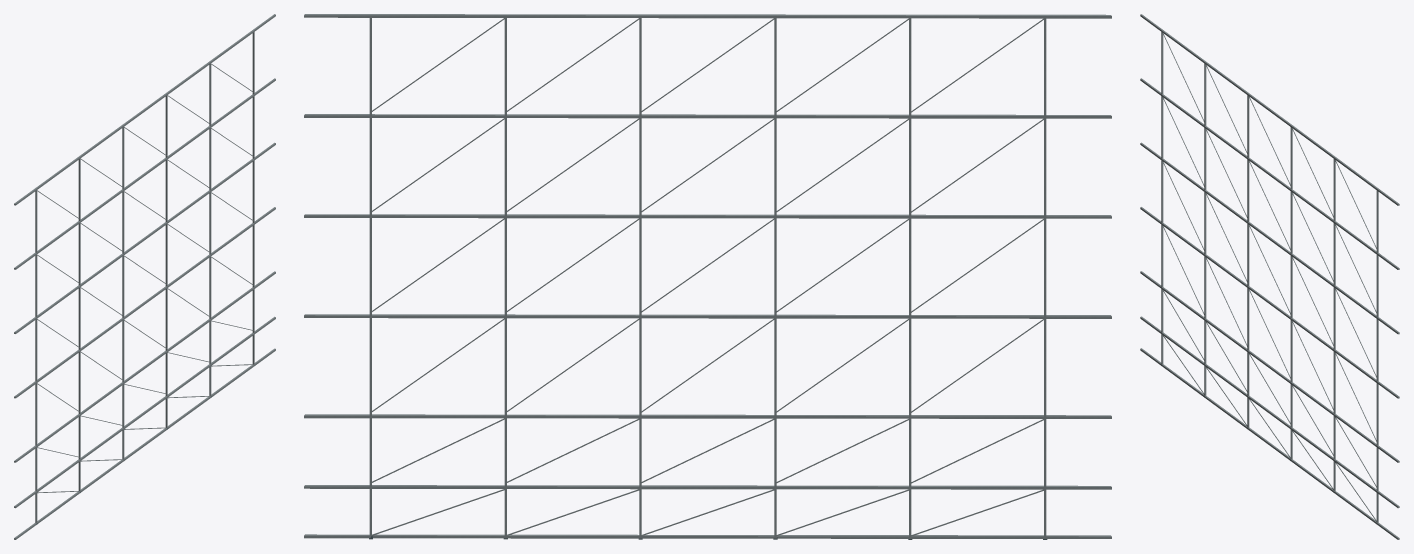
The model's file is G7_MiddleExterior_E00_r001.glb.
3 views of the same model, side by side, from view 1: azimuth 30°, elevation 25°; view 2: azimuth 150°, elevation 25°; view 3: azimuth 270°, elevation 25° (orthographic). The views are drawn at different scales.
Parts seen in each view (by area): view 1: G7_MiddleExterior_E00_frame; view 2: G7_MiddleExterior_E00_frame; view 3: G7_MiddleExterior_E00_frame.
Part boxes in pixels (left/top/right/bottom): G7_MiddleExterior_E00_frame: left=14, top=14, right=275, bottom=539; G7_MiddleExterior_E00_frame: left=304, top=14, right=1111, bottom=538; G7_MiddleExterior_E00_frame: left=1140, top=14, right=1399, bottom=539.
Bounding box in the file's own units: 53.97 × 44.5 × 31.11.
2 materials, 2 textured.
